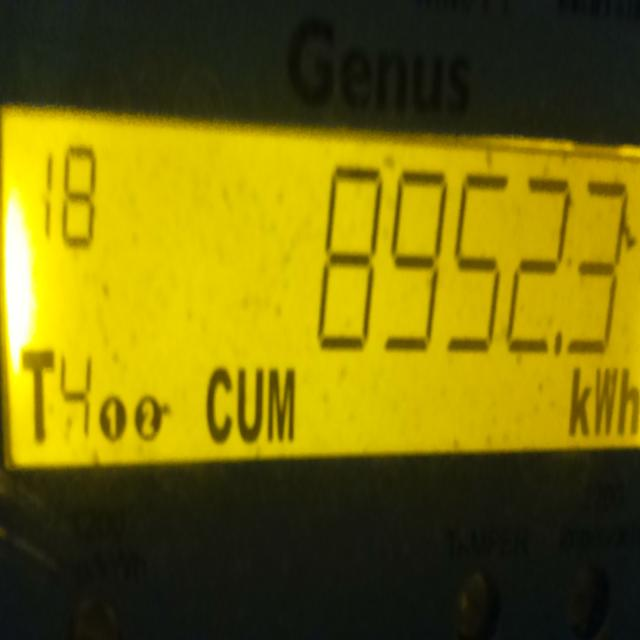.: (552, 327, 564, 359)
0: (39, 148, 59, 244)
2: (506, 169, 571, 360)
3: (573, 167, 633, 360)
5: (444, 171, 511, 357)
8: (315, 159, 384, 360), (59, 134, 104, 252)
9: (384, 160, 451, 368)
